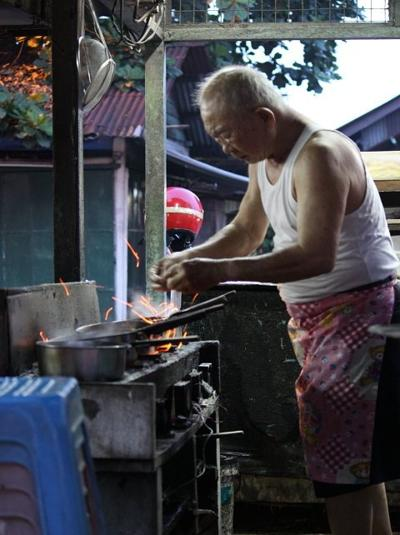person: (150, 64, 398, 535)
